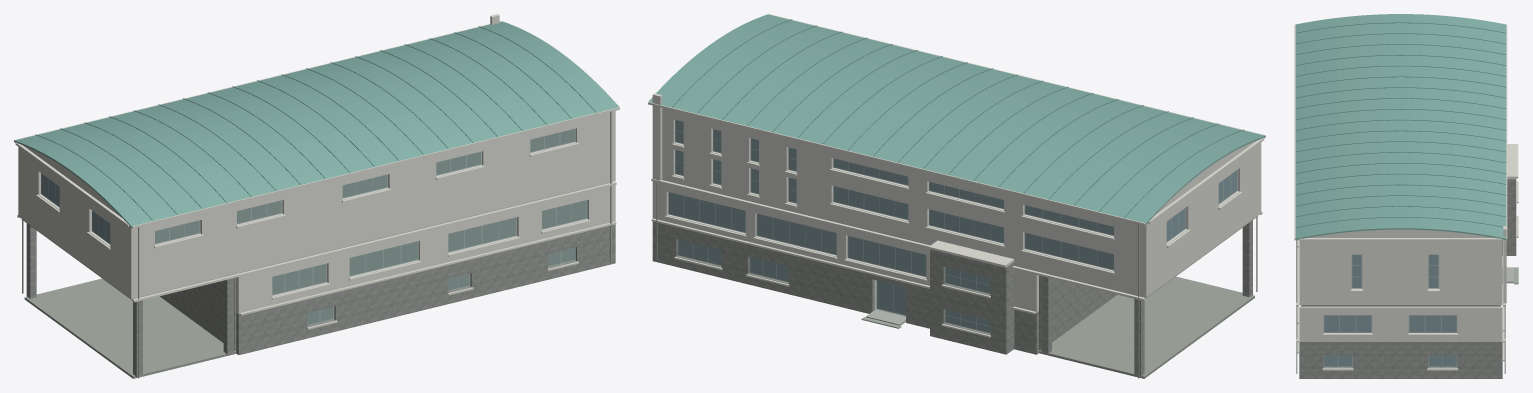
3 renders of one model, left to right at view 1: azimuth 30°, elevation 25°; view 2: azimuth 150°, elevation 25°; view 3: azimuth 270°, elevation 25°, orthographic. The views are drawn at different scales.
Parts seen in each view (by area): view 1: hall__roof, hall__wallWhite, hall__stone, hall__slab, hall__rearGlass, hall__trim, hall__roofSeam, hall__frame, hall__glass, hall__joint; view 2: hall__roof, hall__wallWhite, hall__stone, hall__glass, hall__slab, hall__trim, hall__roofSeam, hall__frame, hall__joint; view 3: hall__roof, hall__wallWhite, hall__stone, hall__roofSeam, hall__glass, hall__trim, hall__frame, hall__slab, hall__joint.
Boxes of the visible parts, <box> form: hall__roof: <box>14,21,619,227</box>; hall__wallWhite: <box>18,14,615,313</box>; hall__stone: <box>26,223,615,377</box>; hall__slab: <box>21,182,609,378</box>; hall__rearGlass: <box>155,129,586,324</box>; hall__trim: <box>14,21,619,329</box>; hall__roofSeam: <box>35,26,596,220</box>; hall__frame: <box>41,128,587,325</box>; hall__glass: <box>41,174,110,243</box>; hall__joint: <box>22,112,611,378</box>; hall__roof: <box>648,14,1265,224</box>; hall__wallWhite: <box>652,93,1261,312</box>; hall__stone: <box>652,220,1252,377</box>; hall__glass: <box>669,120,1236,332</box>; hall__slab: <box>662,179,1257,378</box>; hall__trim: <box>648,14,1265,337</box>; hall__roofSeam: <box>672,19,1243,217</box>; hall__frame: <box>668,120,1237,333</box>; hall__joint: <box>656,179,1257,378</box>; hall__roof: <box>1295,14,1506,239</box>; hall__wallWhite: <box>1299,226,1506,341</box>; hall__stone: <box>1299,178,1516,378</box>; hall__roofSeam: <box>1295,22,1506,227</box>; hall__glass: <box>1324,254,1456,366</box>; hall__trim: <box>1294,24,1518,370</box>; hall__frame: <box>1323,254,1457,366</box>; hall__slab: <box>1301,305,1500,306</box>; hall__joint: <box>1296,240,1505,373</box>.
Bounding box in the file's own units: 41.82 × 13.84 × 18.41.
Materials: 12 (1 with a texture image).
